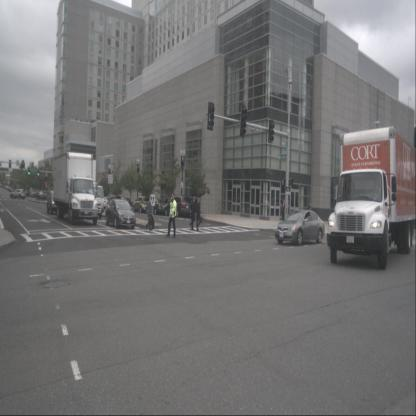human-pedestrian-adult: (146, 196, 154, 230), (189, 196, 196, 230), (196, 197, 203, 231), (281, 199, 286, 222), (308, 202, 312, 225), (165, 196, 168, 212)
vehicle-car: (274, 209, 326, 246), (105, 198, 136, 230), (164, 194, 191, 217), (46, 191, 64, 214), (146, 198, 166, 214), (132, 196, 150, 213), (264, 198, 285, 212), (118, 197, 133, 210), (10, 188, 24, 200), (101, 196, 108, 208), (36, 190, 44, 200), (41, 190, 49, 200), (30, 191, 36, 198)
vehicle-truck: (326, 127, 416, 272), (53, 151, 98, 225), (74, 160, 104, 218)
